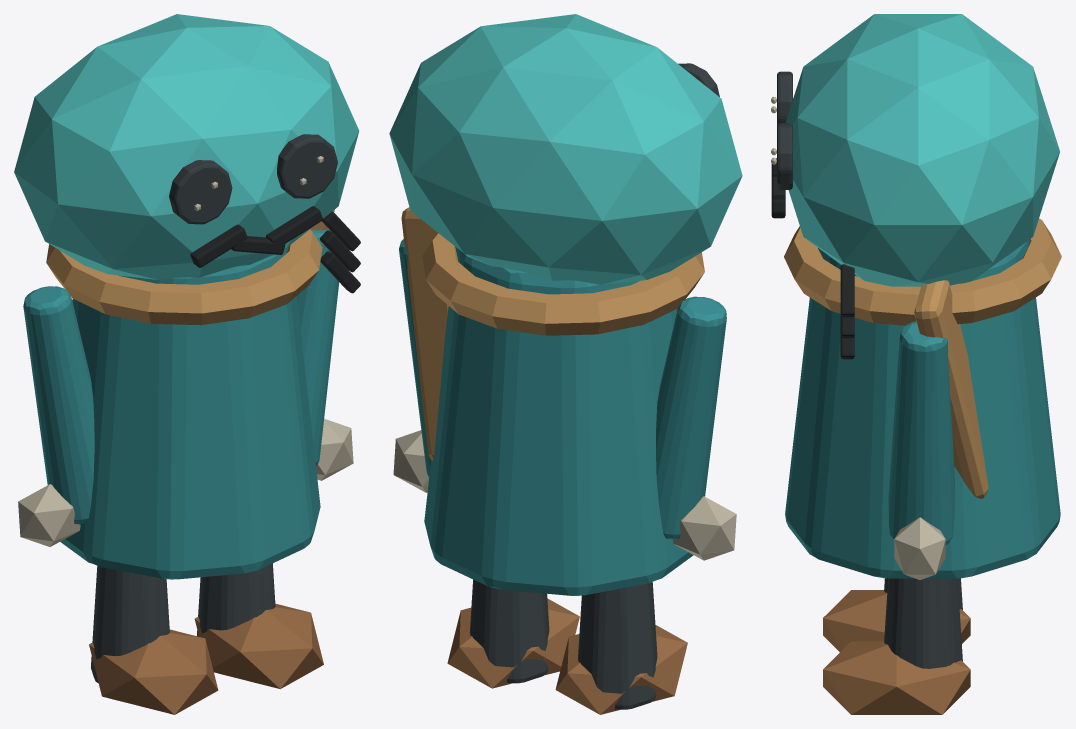
File: doll.glb
The picture shows the model from 3 angles, left to right: view 1: azimuth 30°, elevation 25°; view 2: azimuth 150°, elevation 25°; view 3: azimuth 270°, elevation 25°; orthographic projection. The views are drawn at different scales.
Parts seen in each view (by area): view 1: Head, Body, ScarfKnot, ArmL, FootL, FootR, LegL, ArmR, LegR, ButtonEyeL, ButtonEyeR, HandL (+7 smaller); view 2: Head, Body, ScarfKnot, ArmL, LegL, LegR, ScarfTail, FootL, FootR, HandL, HandR, ArmR; view 3: Head, Body, ArmR, ScarfKnot, FootR, LegR, ScarfTail, FootL, HandR, ButtonEyeR, FaceSeam0, ButtonEyeL.
Part boxes in pixels (x1=…): Head: x1=14, y1=14, x2=359, y2=279; Body: x1=60, y1=246, x2=320, y2=579; ScarfKnot: x1=46, y1=229, x2=322, y2=325; ArmL: x1=23, y1=286, x2=94, y2=524; FootL: x1=89, y1=629, x2=218, y2=714; FootR: x1=194, y1=603, x2=323, y2=689; LegL: x1=91, y1=566, x2=169, y2=683; ArmR: x1=297, y1=228, x2=339, y2=465; LegR: x1=197, y1=563, x2=275, y2=636; ButtonEyeL: x1=169, y1=160, x2=232, y2=224; ButtonEyeR: x1=277, y1=134, x2=337, y2=198; HandL: x1=18, y1=484, x2=80, y2=546; Head: x1=389, y1=14, x2=742, y2=284; Body: x1=424, y1=247, x2=693, y2=595; ScarfKnot: x1=422, y1=233, x2=704, y2=335; ArmL: x1=656, y1=296, x2=726, y2=538; LegL: x1=578, y1=582, x2=657, y2=709; LegR: x1=469, y1=579, x2=549, y2=683; ScarfTail: x1=401, y1=207, x2=448, y2=460; FootL: x1=555, y1=625, x2=687, y2=714; FootR: x1=447, y1=598, x2=579, y2=688; HandL: x1=673, y1=496, x2=736, y2=560; HandR: x1=393, y1=430, x2=428, y2=492; ArmR: x1=399, y1=239, x2=430, y2=477; Head: x1=785, y1=14, x2=1059, y2=286; Body: x1=785, y1=240, x2=1060, y2=578; ArmR: x1=888, y1=321, x2=954, y2=544; ScarfKnot: x1=784, y1=218, x2=1061, y2=325; FootR: x1=823, y1=641, x2=970, y2=714; LegR: x1=884, y1=578, x2=962, y2=668; ScarfTail: x1=914, y1=280, x2=988, y2=498; FootL: x1=823, y1=590, x2=970, y2=651; HandR: x1=894, y1=517, x2=945, y2=579; ButtonEyeR: x1=777, y1=123, x2=792, y2=189; FaceSeam0: x1=840, y1=264, x2=854, y2=317; ButtonEyeL: x1=777, y1=71, x2=792, y2=125.
Size of the model in its own units: 0.6581 by 1.25 by 0.5021.
